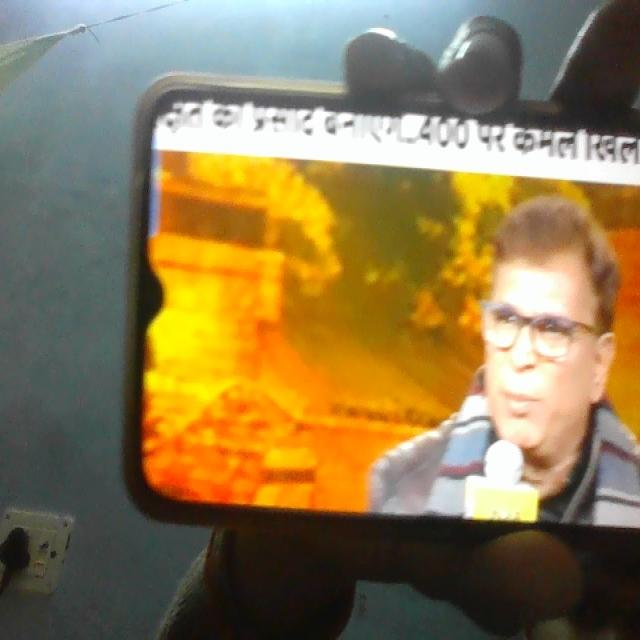fake: (459, 179, 621, 484)
